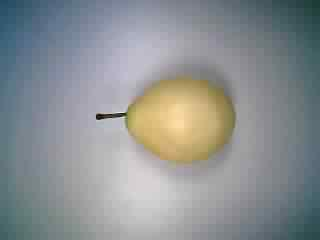pear: (83, 60, 249, 172)
